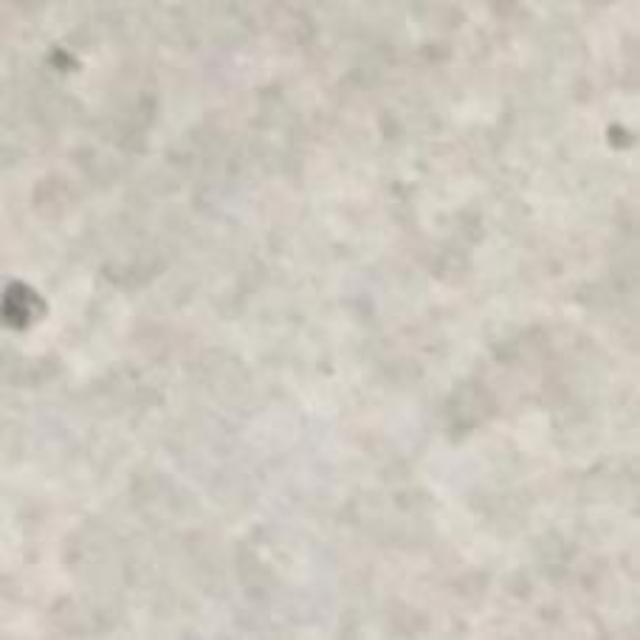peeling plaster: (0, 280, 47, 329)
